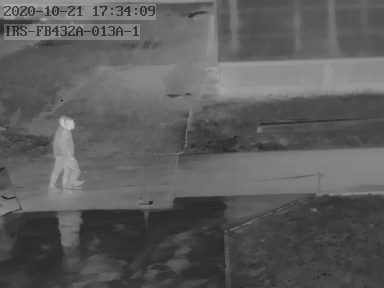person: (52, 115, 80, 192)
